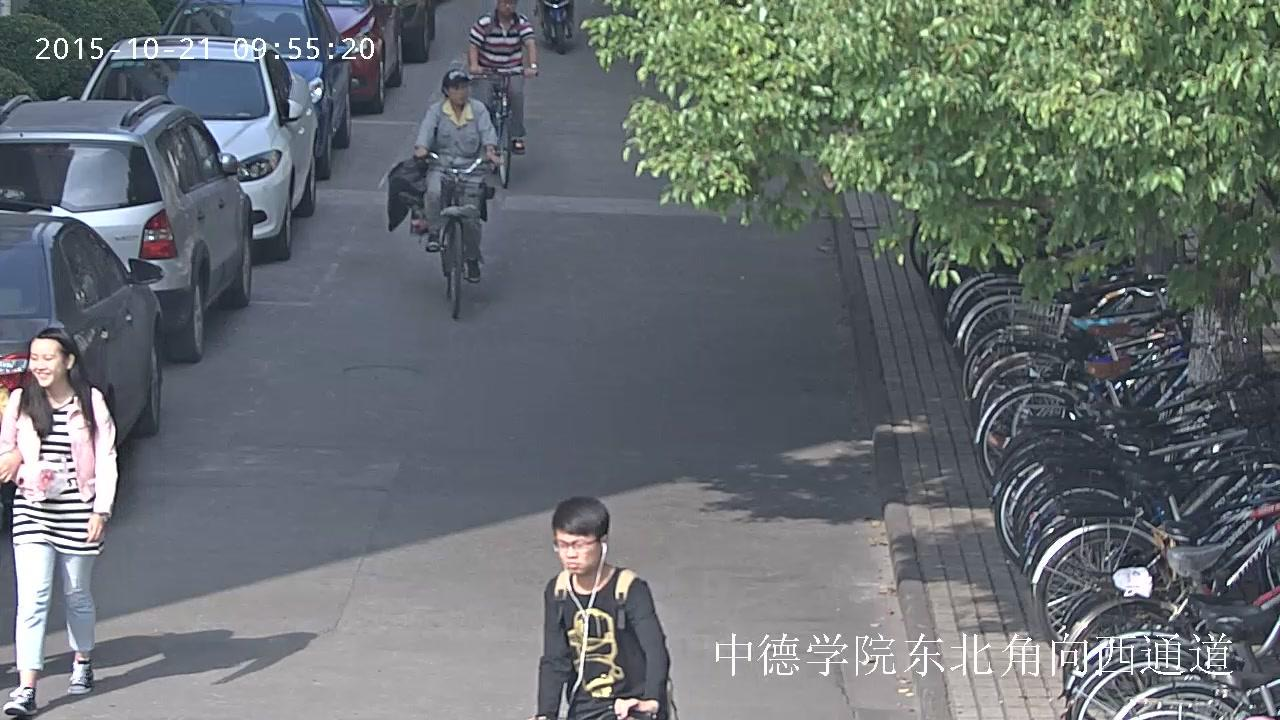face: (557, 529, 598, 574), (28, 338, 64, 386), (447, 83, 469, 104), (496, 0, 516, 17)
